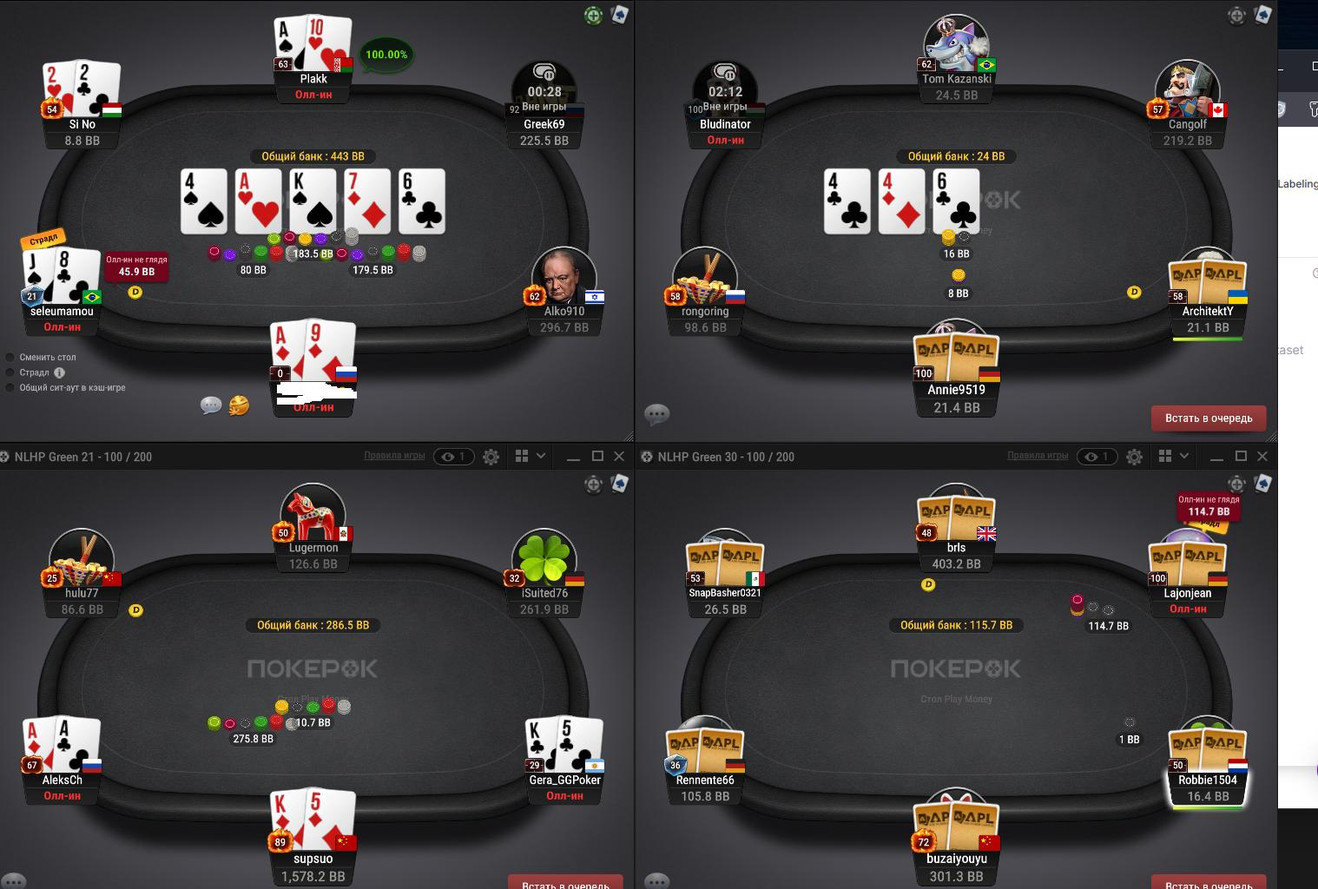10h: (306, 17, 351, 71)
2c: (74, 59, 122, 117)
2h: (42, 62, 77, 116)
4c: (824, 168, 873, 235)
4d: (878, 168, 924, 233)
4s: (180, 169, 227, 232)
5c: (557, 715, 604, 773)
5d: (306, 787, 354, 850)
6c: (933, 169, 978, 235), (399, 170, 444, 231)
7d: (344, 170, 391, 233)
8c: (55, 246, 102, 307)
9d: (306, 317, 357, 386)
Ac: (55, 712, 102, 773)
Ad: (269, 321, 308, 383), (22, 717, 56, 774)
Ah: (237, 169, 282, 234)
As: (274, 16, 307, 70)
Js: (22, 247, 57, 306)
Kc: (524, 719, 558, 773)
Kd: (269, 789, 305, 852)
Ks: (291, 170, 336, 233)
